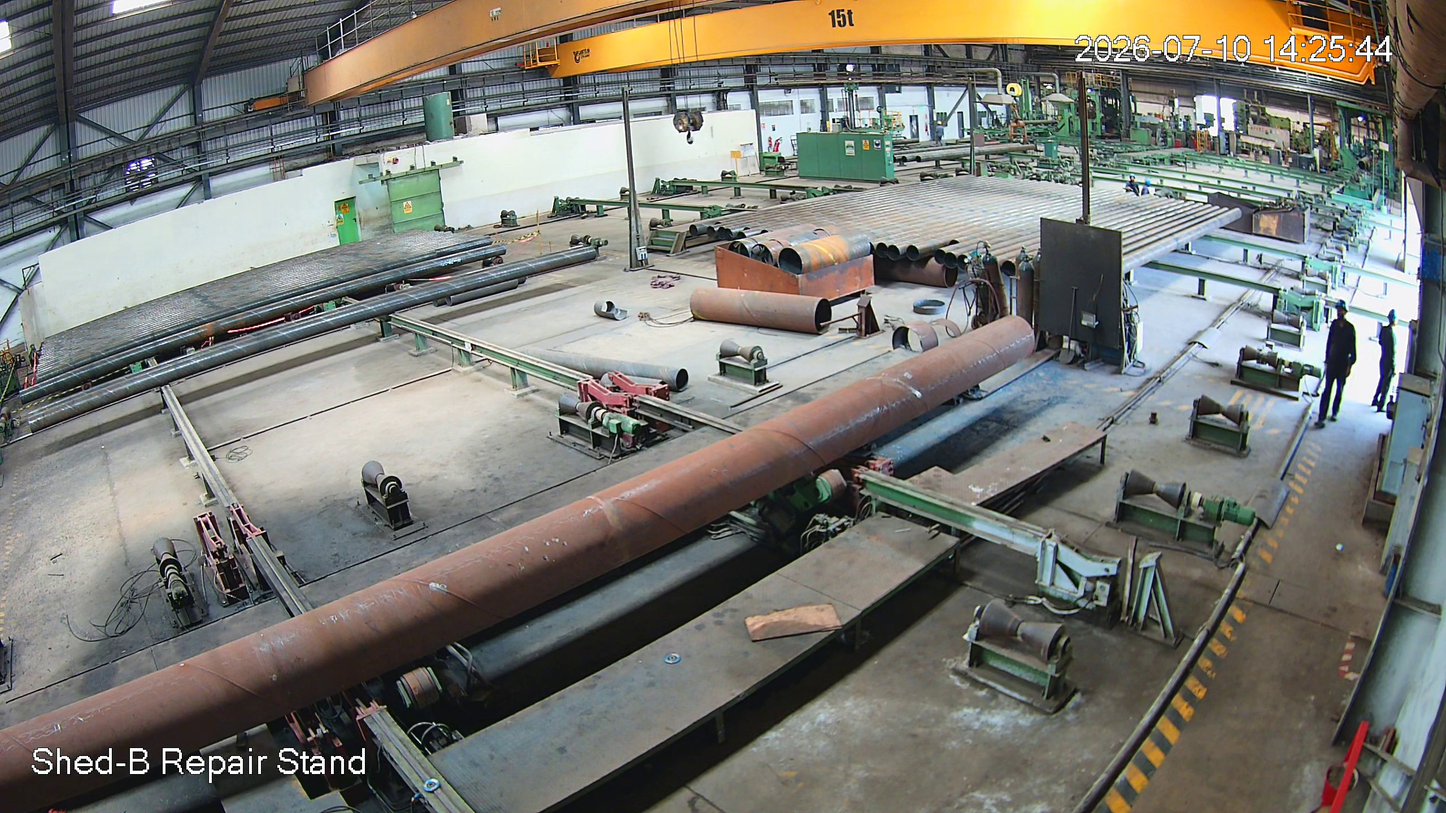Helmet: (1329, 293, 1349, 324), (1385, 304, 1402, 332)
Person: (1315, 297, 1352, 424), (1372, 305, 1405, 414)
